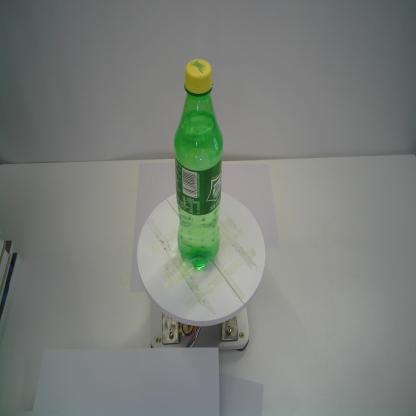Drink: (171, 55, 226, 273)
